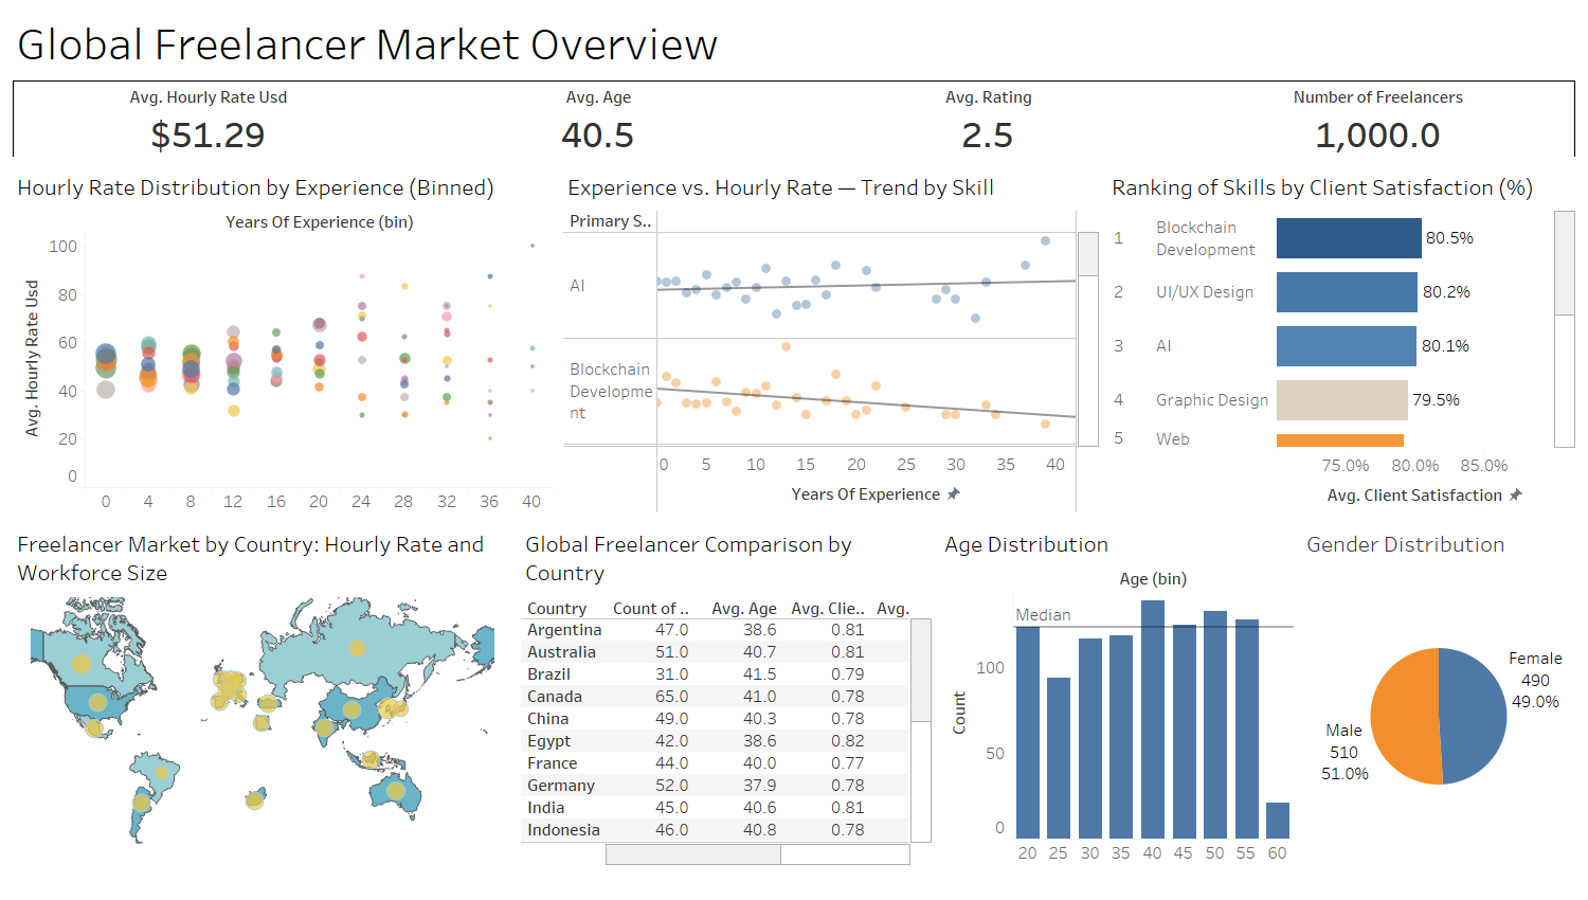

What the dashboard file says about the page in this screenshot:
{"tool":"tableau","page":{"name":"Global Freelancer Market Overview","canvas":[1500,850],"ordinal":0},"visuals":[{"type":"title","box":[8,8,1484,64]},{"type":"worksheet","title":"KPI strip","mark":"Automatic","box":[8,72,1484,80]},{"type":"worksheet","title":"Hourly Rate Distribution by Experience (Binned)","mark":"Circle","rows":["hourly_rate_usd"],"cols":["Years Of Experience (bin)"],"box":[8,152,520,337]},{"type":"worksheet","title":"Experience vs. Hourly Rate Trends by Skill","mark":"Circle","rows":["primary_skill","hourly_rate_usd"],"cols":["years_of_experience"],"box":[528,152,514,337]},{"type":"worksheet","title":"Ranking of Skills by Client Satisfaction (%)","mark":"Automatic","rows":["Calculation_7560980879342092289","primary_skill"],"cols":["client_satisfaction"],"box":[1042,152,450,337]},{"type":"worksheet","title":"Freelancer Market by Country: Rate & Workforce Size","mark":"Automatic","box":[8,489,480,332]},{"type":"worksheet","title":"Global Freelancer Comparison by Country","mark":"Automatic","rows":["country"],"box":[488,489,396,332]},{"type":"worksheet","title":"Age Distribution","mark":"Automatic","rows":["age"],"cols":["Age (bin)"],"box":[884,489,342,332]},{"type":"worksheet","title":"Gender Distribution (Pie)","mark":"Pie","box":[1226,489,266,332]}]}

Visuals, with their boxes in screenshot pixels (x1, y1, x2, y2), scaled from the page's 1500x850 canvas onto the 1588x900 screenshot:
title: [x1=8, y1=8, x2=1580, y2=76]
"KPI strip" worksheet: [x1=8, y1=76, x2=1580, y2=161]
"Hourly Rate Distribution by Experience (Binned)" worksheet (Circle marks): [x1=8, y1=161, x2=559, y2=518]
"Experience vs. Hourly Rate Trends by Skill" worksheet (Circle marks): [x1=559, y1=161, x2=1103, y2=518]
"Ranking of Skills by Client Satisfaction (%)" worksheet: [x1=1103, y1=161, x2=1580, y2=518]
"Freelancer Market by Country: Rate & Workforce Size" worksheet: [x1=8, y1=518, x2=517, y2=869]
"Global Freelancer Comparison by Country" worksheet: [x1=517, y1=518, x2=936, y2=869]
"Age Distribution" worksheet: [x1=936, y1=518, x2=1298, y2=869]
"Gender Distribution (Pie)" worksheet (Pie marks): [x1=1298, y1=518, x2=1580, y2=869]
